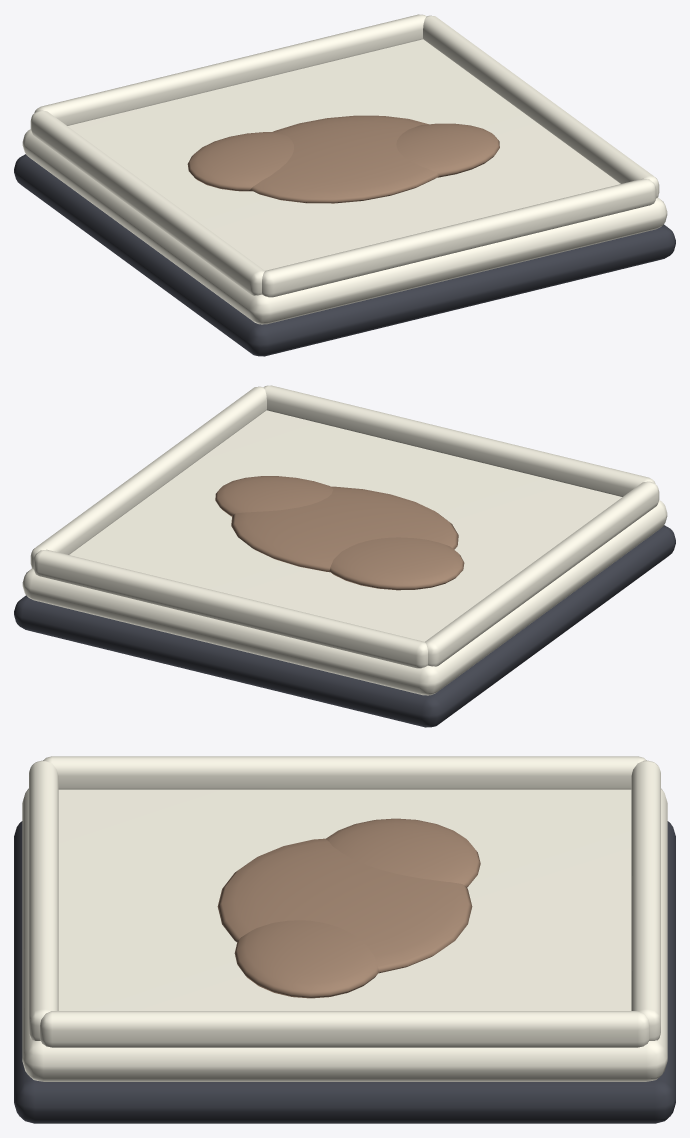
Rendered from feedingTile.glb.
The picture shows the model from 3 angles, top to bottom: view 1: azimuth 30°, elevation 25°; view 2: azimuth 150°, elevation 25°; view 3: azimuth 270°, elevation 25°; orthographic projection. The views are drawn at different scales.
Visible parts, largest first — view 1: Ceramic feeding tile, Nonslip tile base, Tile raised edge.002, Wet food spread, Tile raised edge.003, Tile raised edge, Tile raised edge.001, Wet food spread.001, Wet food spread.002; view 2: Ceramic feeding tile, Nonslip tile base, Tile raised edge.003, Wet food spread, Tile raised edge.002, Tile raised edge, Tile raised edge.001, Wet food spread.001, Wet food spread.002; view 3: Ceramic feeding tile, Nonslip tile base, Tile raised edge.001, Tile raised edge, Wet food spread, Wet food spread.002, Tile raised edge.002, Tile raised edge.003, Wet food spread.001.
Part boxes in pixels (x1,y1,x2,y2): Ceramic feeding tile: [22, 39, 667, 324]; Nonslip tile base: [14, 154, 675, 356]; Tile raised edge.002: [262, 178, 656, 297]; Wet food spread: [250, 115, 439, 203]; Tile raised edge.003: [34, 14, 426, 125]; Tile raised edge: [30, 110, 264, 295]; Tile raised edge.001: [423, 15, 659, 198]; Wet food spread.001: [187, 132, 293, 191]; Wet food spread.002: [396, 123, 499, 177]; Ceramic feeding tile: [22, 410, 667, 695]; Nonslip tile base: [14, 525, 675, 727]; Tile raised edge.003: [33, 549, 427, 668]; Wet food spread: [231, 486, 458, 572]; Tile raised edge.002: [263, 385, 655, 496]; Tile raised edge: [425, 481, 659, 666]; Tile raised edge.001: [30, 386, 266, 569]; Wet food spread.001: [329, 537, 464, 590]; Wet food spread.002: [215, 476, 332, 516]; Ceramic feeding tile: [22, 788, 667, 1081]; Nonslip tile base: [14, 821, 675, 1123]; Tile raised edge.001: [40, 1011, 649, 1047]; Tile raised edge: [43, 756, 646, 789]; Wet food spread: [217, 838, 472, 973]; Wet food spread.002: [234, 920, 378, 998]; Tile raised edge.002: [29, 760, 58, 1040]; Tile raised edge.003: [631, 760, 660, 1040]; Wet food spread.001: [326, 818, 480, 887].
Bounding box in the file's own units: 0.78 × 0.137 × 0.78.
